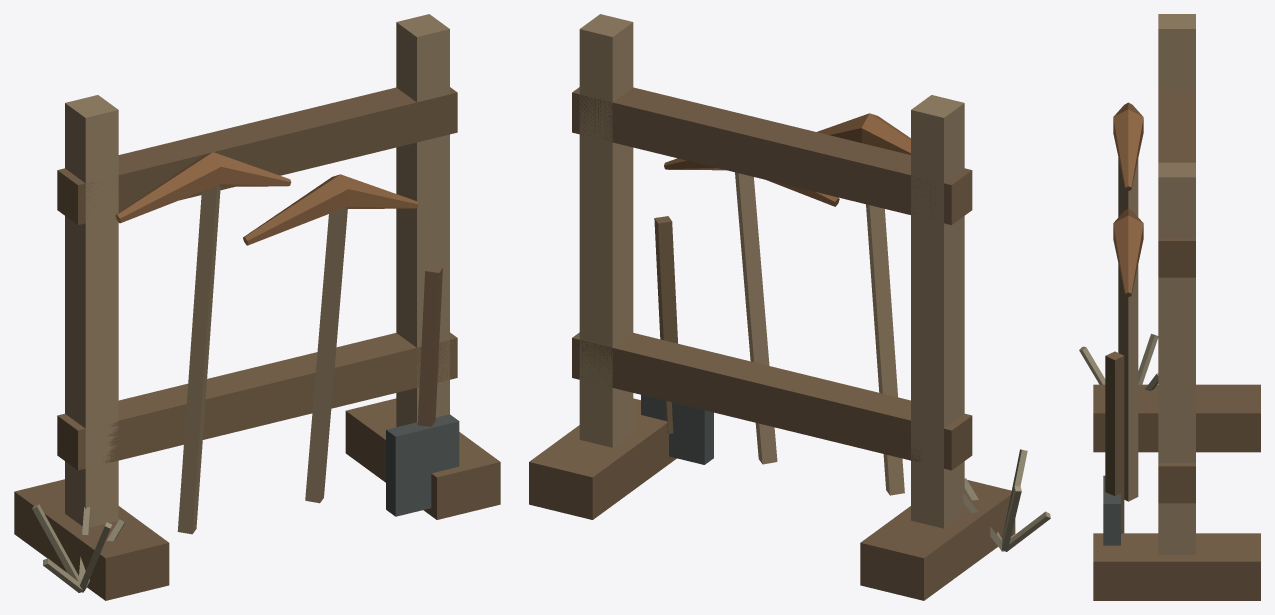
File: tool-rack.glb
3 renders of one model, left to right at view 1: azimuth 30°, elevation 25°; view 2: azimuth 150°, elevation 25°; view 3: azimuth 270°, elevation 25°, orthographic. The views are drawn at different scales.
Visible parts, largest first — view 1: tool-rack; view 2: tool-rack; view 3: tool-rack.
Part boxes in pixels (box(x1,y1,x2,y2)): tool-rack: box(14, 14, 500, 600); tool-rack: box(529, 14, 1050, 600); tool-rack: box(1079, 14, 1260, 600).
Bounding box in the file's own units: 1.74 × 1.71 × 0.6727.
